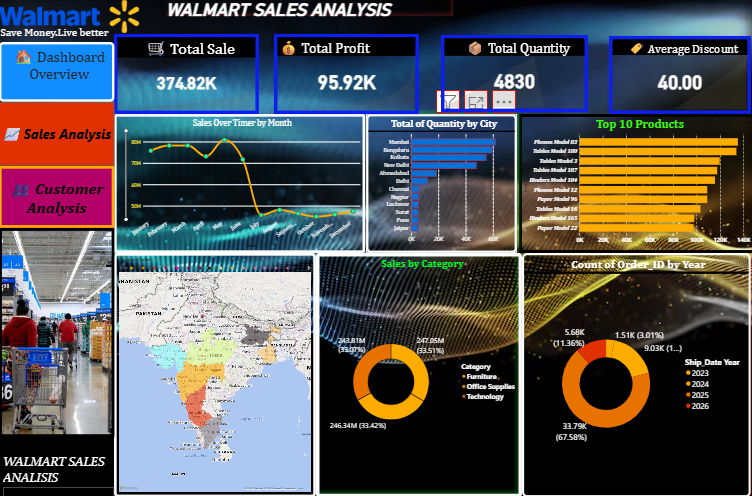

The dashboard page shown, as its layout file describes it:
{"tool":"powerbi","page":{"name":"🏠 Dashboard Overview","canvas":[2823,1863],"ordinal":0},"visuals":[{"type":"lineChart","fields":{"Y":["Sum(Sheet.Sales)"],"Category":["Sheet.Order_Date.Variation.Date Hierarchy.Month"]},"box":[430.8,430.8,938.5,519.2],"z":0},{"type":"donutChart","title":"Sales by Category","fields":{"Y":["Sum(Sheet.Sales)"],"Category":["Sheet.Category"]},"box":[1184.6,950,769.2,911.5],"z":1000},{"type":"clusteredBarChart","title":"Top 10 Products","fields":{"Y":["Sum(Sheet.Profit)"],"Category":["Sheet.Product"]},"box":[1942.3,430.8,880.8,519.2],"z":2000},{"type":"filledMap","fields":{"Series":["Sheet.Sales"],"Category":["Sheet.State"]},"box":[430.8,950,753.8,911.5],"z":3000},{"type":"clusteredBarChart","title":"Total of Quantity by City","fields":{"Category":["Sheet.City"],"Y":["Sum(Sheet.Quantity)"]},"box":[1370.2,429.8,563.8,519.1],"z":4000},{"type":"donutChart","fields":{"Category":["Sheet.Ship_Date.Variation.Date Hierarchy.Year","Sheet.Ship_Date.Variation.Date Hierarchy.Quarter","Sheet.Ship_Date.Variation.Date Hierarchy.Month","Sheet.Ship_Date.Variation.Date Hierarchy.Day"],"Y":["CountNonNull(Sheet.Order_ID)"]},"box":[1953.8,950,853.8,911.5],"z":5000},{"type":"image","box":[0,0,523.1,130.8],"z":7000},{"type":"textbox","title":"Save Money.Live better","box":[0,100,526.9,61.5],"z":8000},{"type":"kpi","title":" 🛒  Total Sale","fields":{"Indicator":["Sum(Sheet.Sales)"],"TrendLine":["Sheet.Sales"]},"box":[429.4,130.7,541.4,298.7],"z":9000},{"type":"kpi","title":" 💰  Total Profit","fields":{"Indicator":["Sum(Sheet.Profit)"],"TrendLine":["Sheet.Profit"]},"box":[1026.9,130.7,541.4,298.7],"z":10000},{"type":"kpi","title":"   📦 Total Quantity","fields":{"Indicator":["Sum(Sheet.Quantity)"],"TrendLine":["Sheet.Quantity"]},"box":[1650.5,134.4,548.9,287.5],"z":11000},{"type":"kpi","title":"🏷️ Average Discount","fields":{"Indicator":["Avg(Sheet.Discount)"],"TrendLine":["Sheet.Discount"]},"box":[2277.8,138.2,530.2,291.3],"z":12000},{"type":"image","title":"WALMART SALES ANALYSIS","box":[623.1,0,1073.1,65.4],"z":14000},{"type":"textbox","title":"🏠 Dashboard Overview","box":[0,161.5,430.8,223.1],"z":15000},{"type":"actionButton","box":[0,384.6,430.8,238.5],"z":16000},{"type":"actionButton","box":[0,623.1,430.8,230.8],"z":17000},{"type":"image","box":[0,853.8,430.8,780.8],"z":18000},{"type":"actionButton","title":"WALMART SALES ANALISIS","box":[15.4,1700,415.4,161.5],"z":19000}]}

Visuals, with their boxes in screenshot pixels (x1, y1, x2, y2), scaled from the page's 2823x1863 canvas onto the 752x496 screenshot:
lineChart - Sum(Sheet.Sales) x Sheet.Order_Date.Variation.Date Hierarchy.Month: (x1=115, y1=115, x2=365, y2=253)
"Sales by Category" donutChart: (x1=316, y1=253, x2=520, y2=495)
"Top 10 Products" clusteredBarChart: (x1=517, y1=115, x2=751, y2=253)
filledMap - Sheet.Sales x Sheet.State: (x1=115, y1=253, x2=316, y2=495)
"Total of Quantity by City" clusteredBarChart: (x1=365, y1=114, x2=515, y2=253)
donutChart - Sheet.Ship_Date.Variation.Date Hierarchy.Year x Sheet.Ship_Date.Variation.Date Hierarchy.Quarter: (x1=520, y1=253, x2=748, y2=495)
image: (x1=0, y1=0, x2=139, y2=35)
"Save Money.Live better" textbox: (x1=0, y1=27, x2=140, y2=43)
" 🛒  Total Sale" kpi: (x1=114, y1=35, x2=259, y2=114)
" 💰  Total Profit" kpi: (x1=274, y1=35, x2=418, y2=114)
"   📦 Total Quantity" kpi: (x1=440, y1=36, x2=586, y2=112)
"🏷️ Average Discount" kpi: (x1=607, y1=37, x2=748, y2=114)
"WALMART SALES ANALYSIS" image: (x1=166, y1=0, x2=452, y2=17)
"🏠 Dashboard Overview" textbox: (x1=0, y1=43, x2=115, y2=102)
actionButton: (x1=0, y1=102, x2=115, y2=166)
actionButton: (x1=0, y1=166, x2=115, y2=227)
image: (x1=0, y1=227, x2=115, y2=435)
"WALMART SALES ANALISIS" actionButton: (x1=4, y1=453, x2=115, y2=495)
